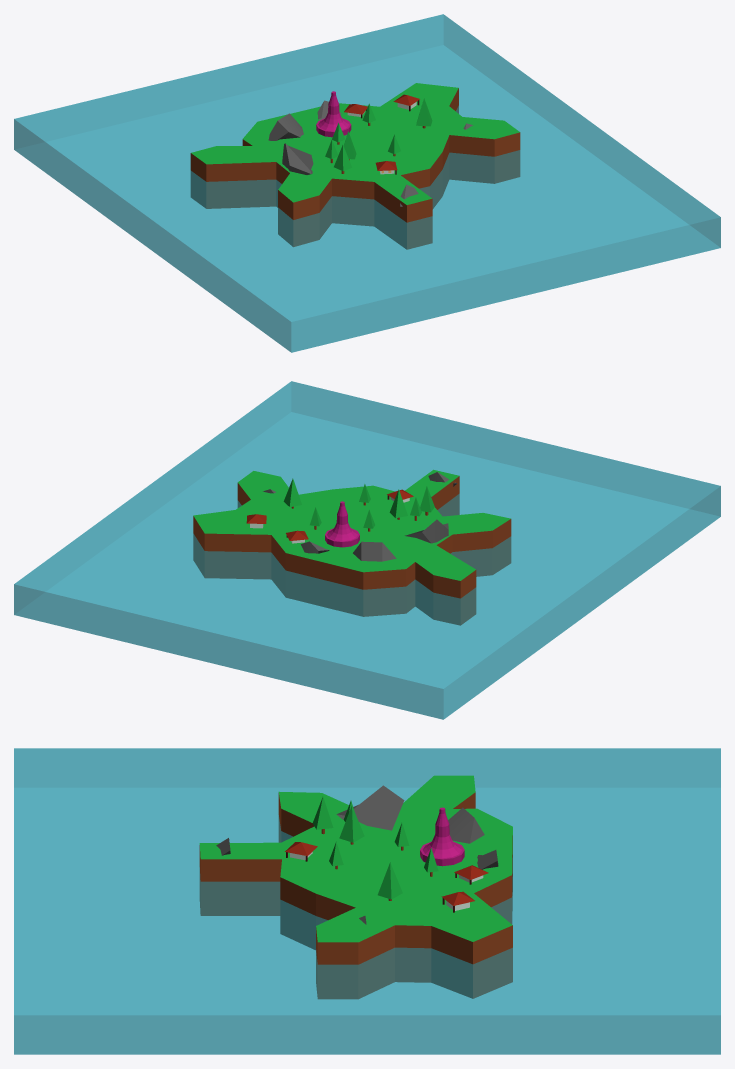
3 renders of one model, top to bottom at view 1: azimuth 30°, elevation 25°; view 2: azimuth 150°, elevation 25°; view 3: azimuth 270°, elevation 25°, orthographic. The views are drawn at different scales.
Visible parts, largest first — view 1: wat-r, Tur-dul, Lathe, Cube.1, Cube.2; view 2: wat-r, Tur-dul, Lathe, Cube.2, Cube.1; view 3: wat-r, Tur-dul, Cube.1, Lathe, Pyramid (×2), Cube.2.
Part boxes in pixels (<box>): wat-r: <box>14,14,720,352</box>; Tur-dul: <box>190,83,520,249</box>; Lathe: <box>316,91,351,137</box>; Cube.1: <box>282,143,313,174</box>; Cube.2: <box>268,113,303,140</box>; wat-r: <box>14,381,720,719</box>; Tur-dul: <box>193,469,511,625</box>; Lathe: <box>325,501,359,547</box>; Cube.2: <box>353,541,396,561</box>; Cube.1: <box>405,519,448,543</box>; wat-r: <box>14,748,720,1054</box>; Tur-dul: <box>199,775,512,999</box>; Cube.1: <box>336,785,404,830</box>; Lathe: <box>420,807,464,866</box>; Pyramid (×2): <box>339,806,402,899</box>; Cube.2: <box>448,807,484,843</box>.
Size of the model in its own units: 8.06 by 1.54 by 9.02.
